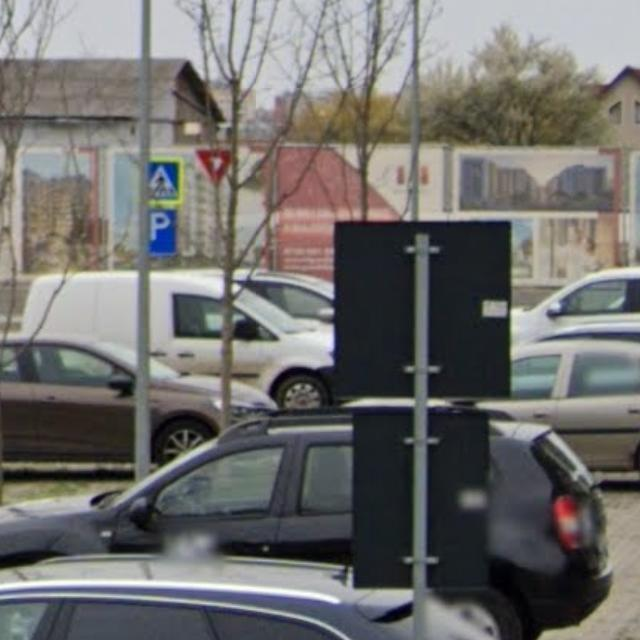info_crosswalk: (143, 157, 185, 206)
prio_give_way: (193, 148, 232, 186)
